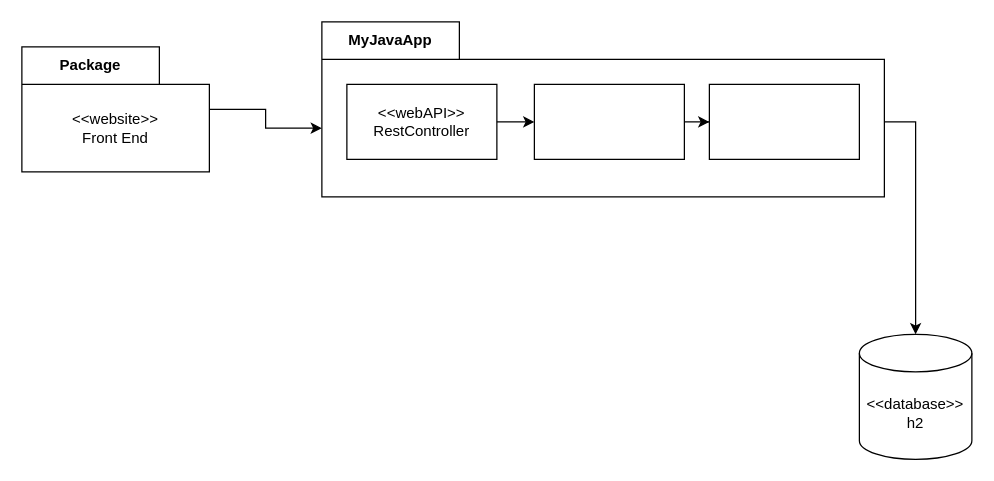
This 994x481 diagram has some shape labels left out. The centre of each missing label's shape, as x and y in pixels:
<<repository>> CrudRepository: point (783, 121)
Service: point (608, 121)
